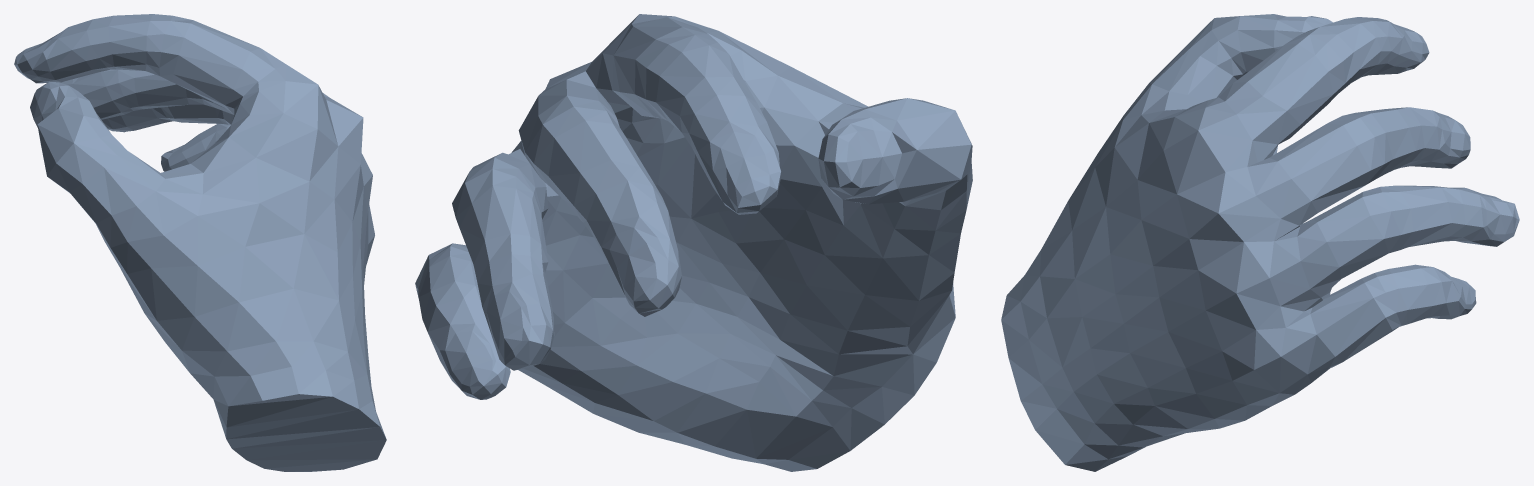
3 views of the same model, side by side, from view 1: azimuth 30°, elevation 25°; view 2: azimuth 150°, elevation 25°; view 3: azimuth 270°, elevation 25° (orthographic). The views are drawn at different scales.
Size of the model in its own units: 0.1159 by 0.1276 by 0.1482.
